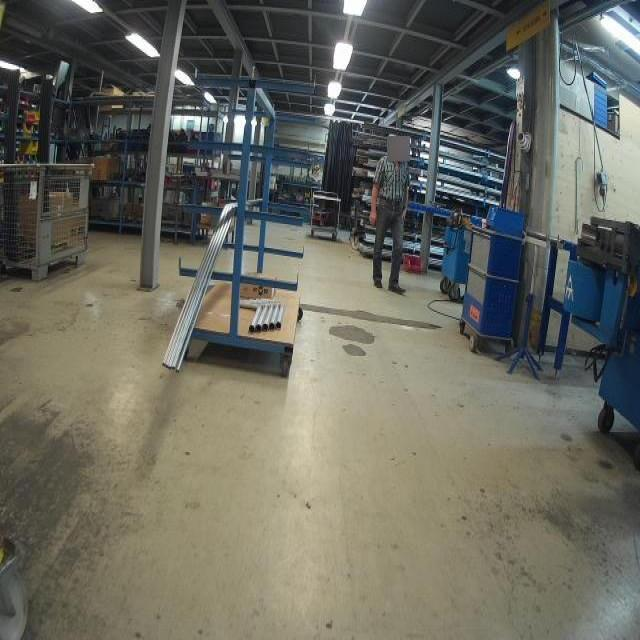stillage: (1, 159, 95, 283)
